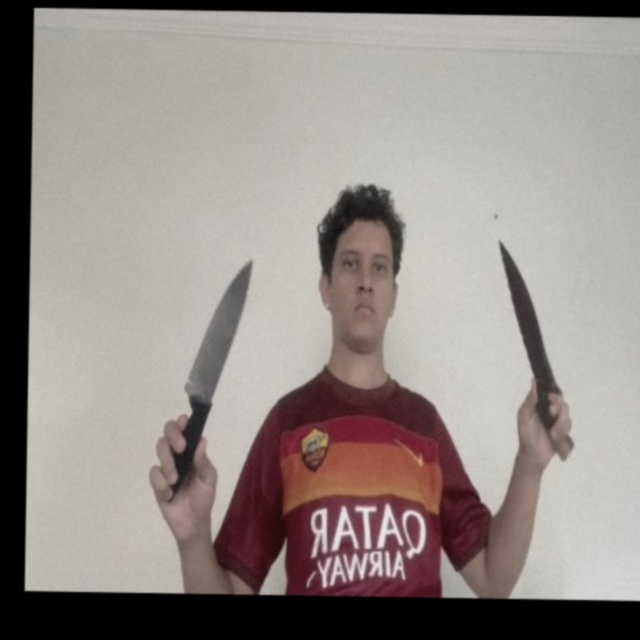Sharp-Object: (185, 256, 253, 395), (497, 237, 559, 389)
